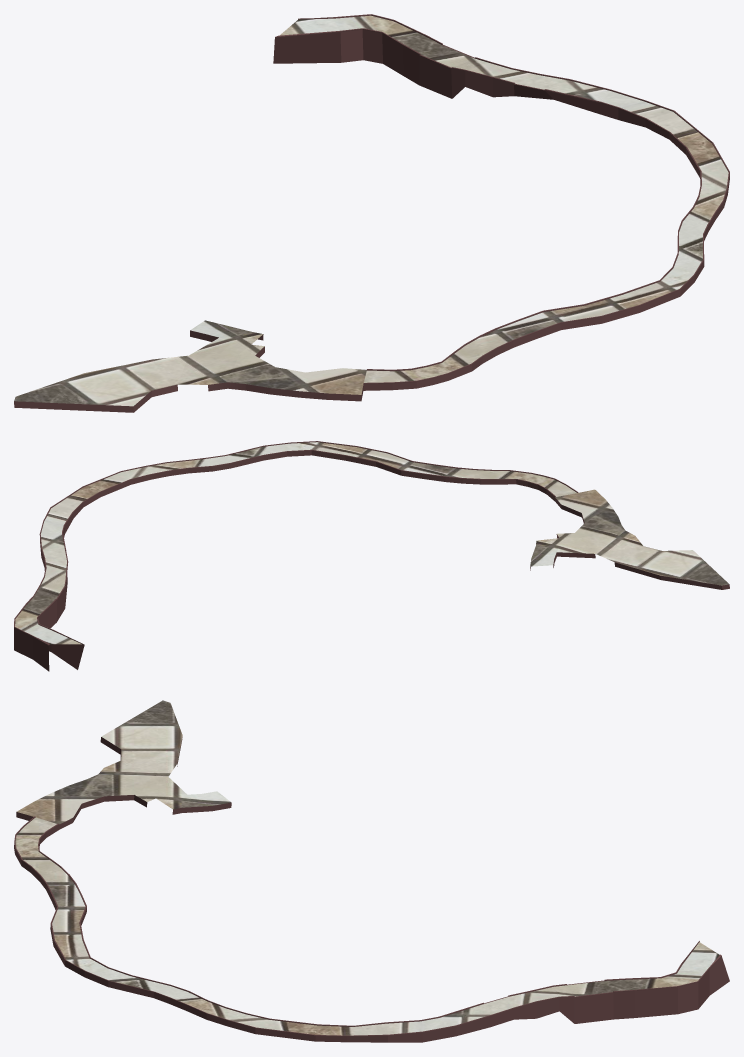
3 views of the same model, one above another, from view 1: azimuth 30°, elevation 25°; view 2: azimuth 150°, elevation 25°; view 3: azimuth 270°, elevation 25° (orthographic). The views are drawn at different scales.
Parts seen in each view (by area): view 1: Glow002, Object020; view 2: Glow002, Object020; view 3: Glow002, Object020.
Part boxes in pixels (x1,y1,x2,y2): Glow002: [14, 15, 728, 406]; Object020: [14, 14, 729, 412]; Glow002: [15, 442, 728, 644]; Object020: [14, 441, 729, 671]; Glow002: [15, 700, 719, 1035]; Object020: [14, 737, 729, 1042].
Size of the model in its own units: 54.22 by 2.16 by 48.38.
